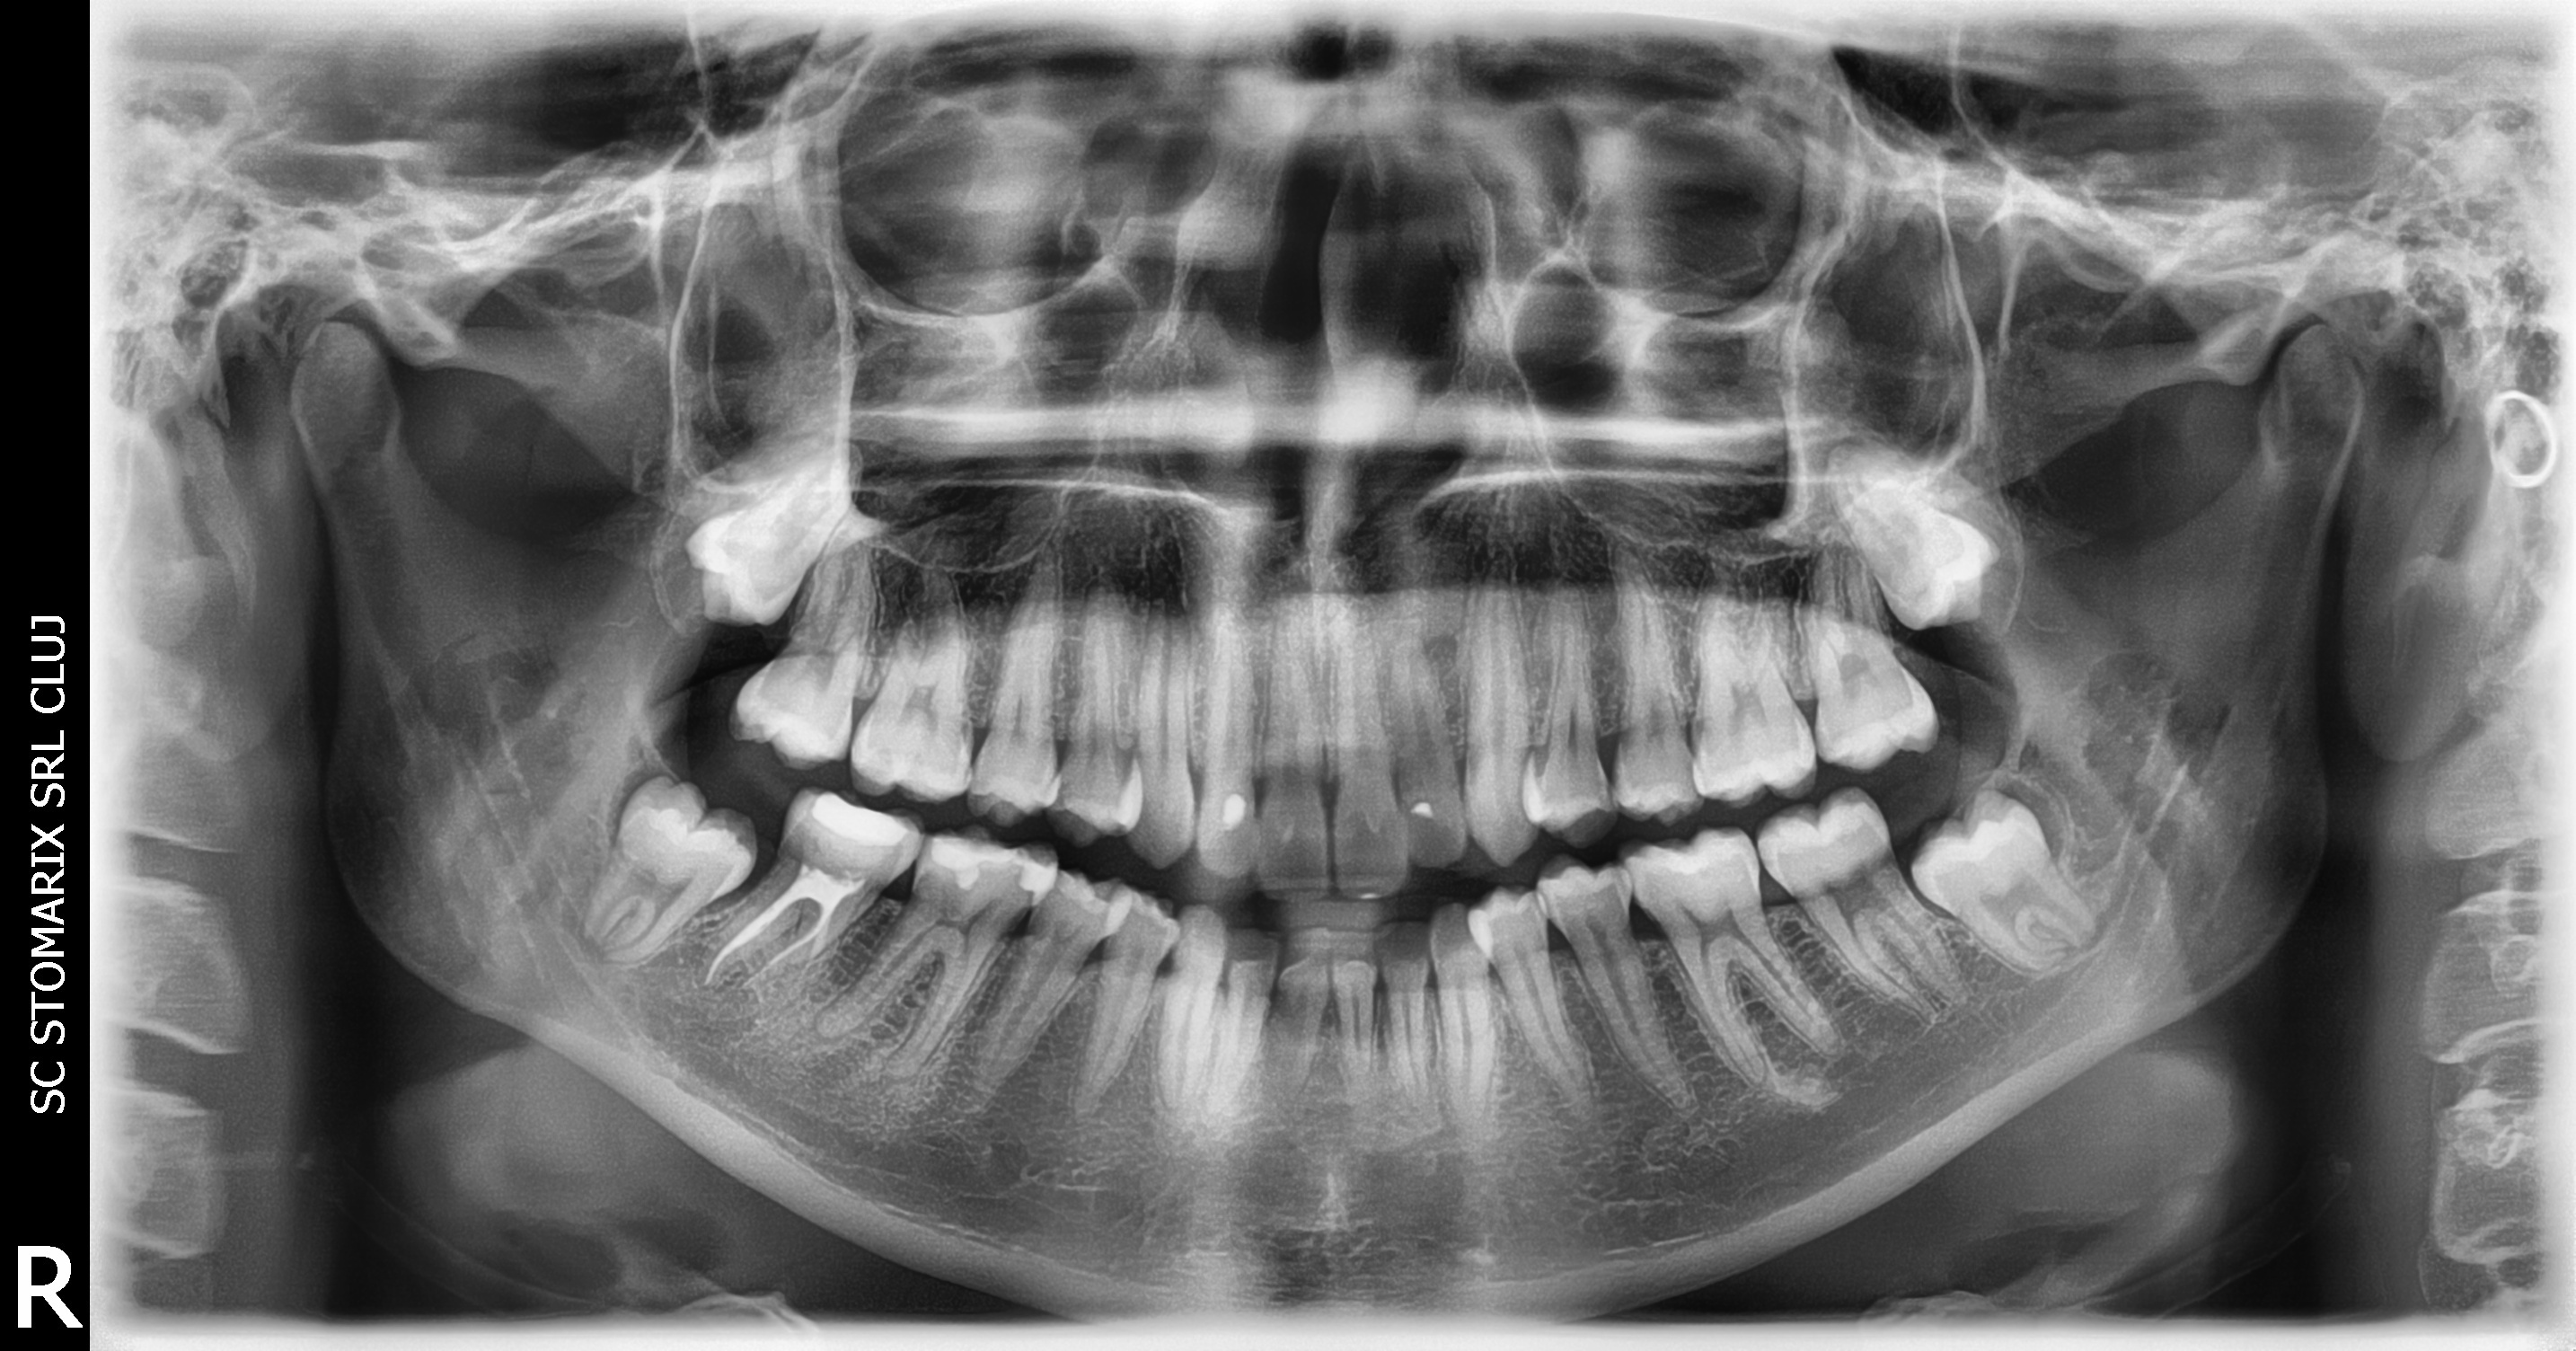END: (271, 368, 1136, 1351)
IMT: (250, 126, 1116, 755)
OBT: (601, 380, 1847, 1210)
